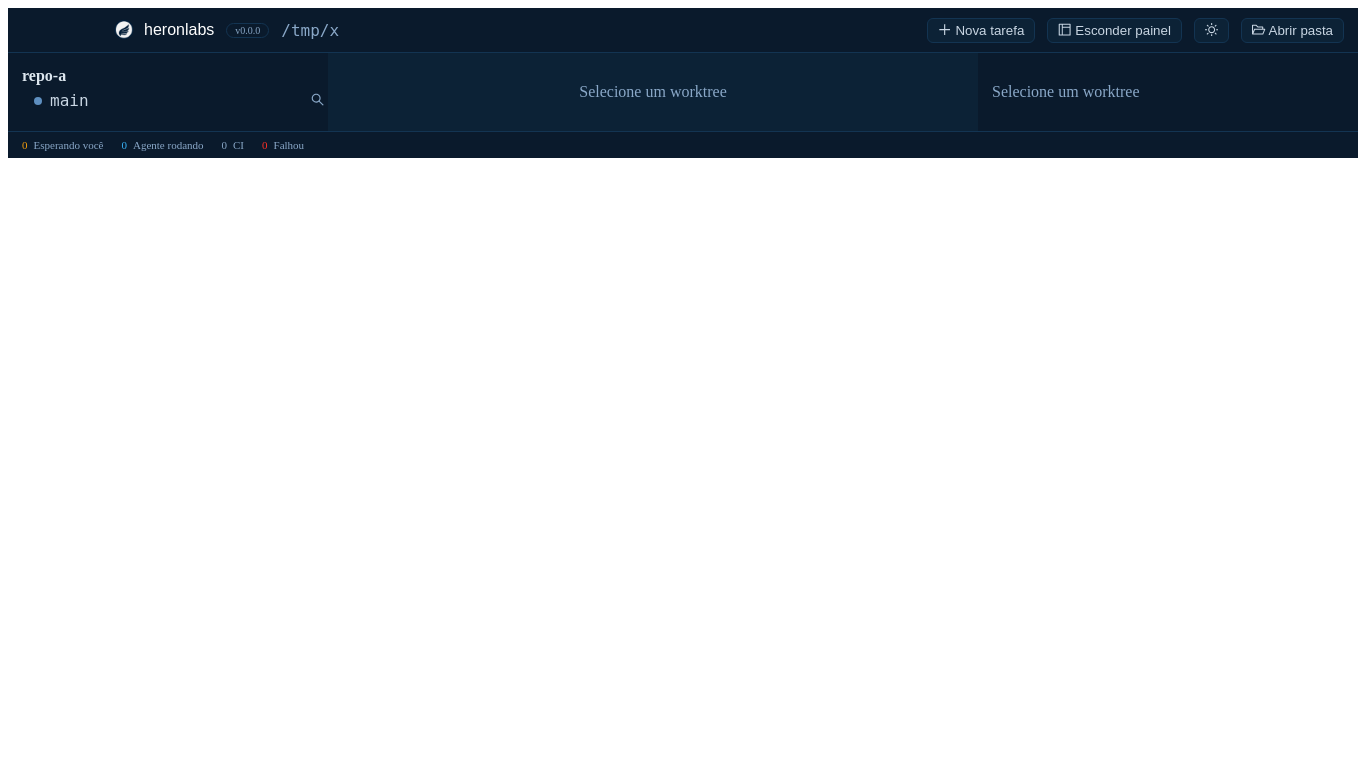
Test: AppShell › Should keep the dialog open and show the error when creating fails
The width and height of the screenshot is (1366, 768).
Click the button "Nova tarefa" at x=981, y=30, box x1=927 y1=18 x2=1035 y2=42
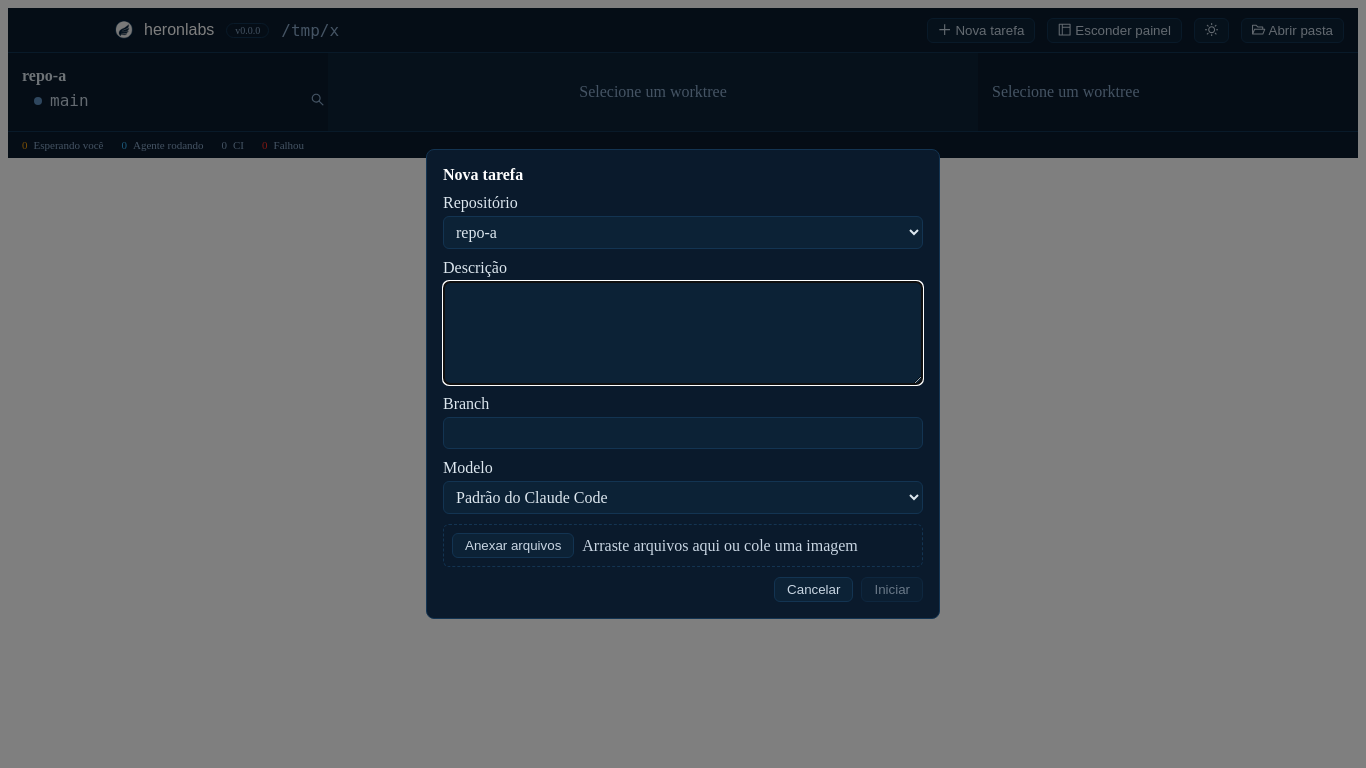
Type "x" into the text box labelled "Descrição" at x=683, y=333, box x1=443 y1=281 x2=923 y2=385
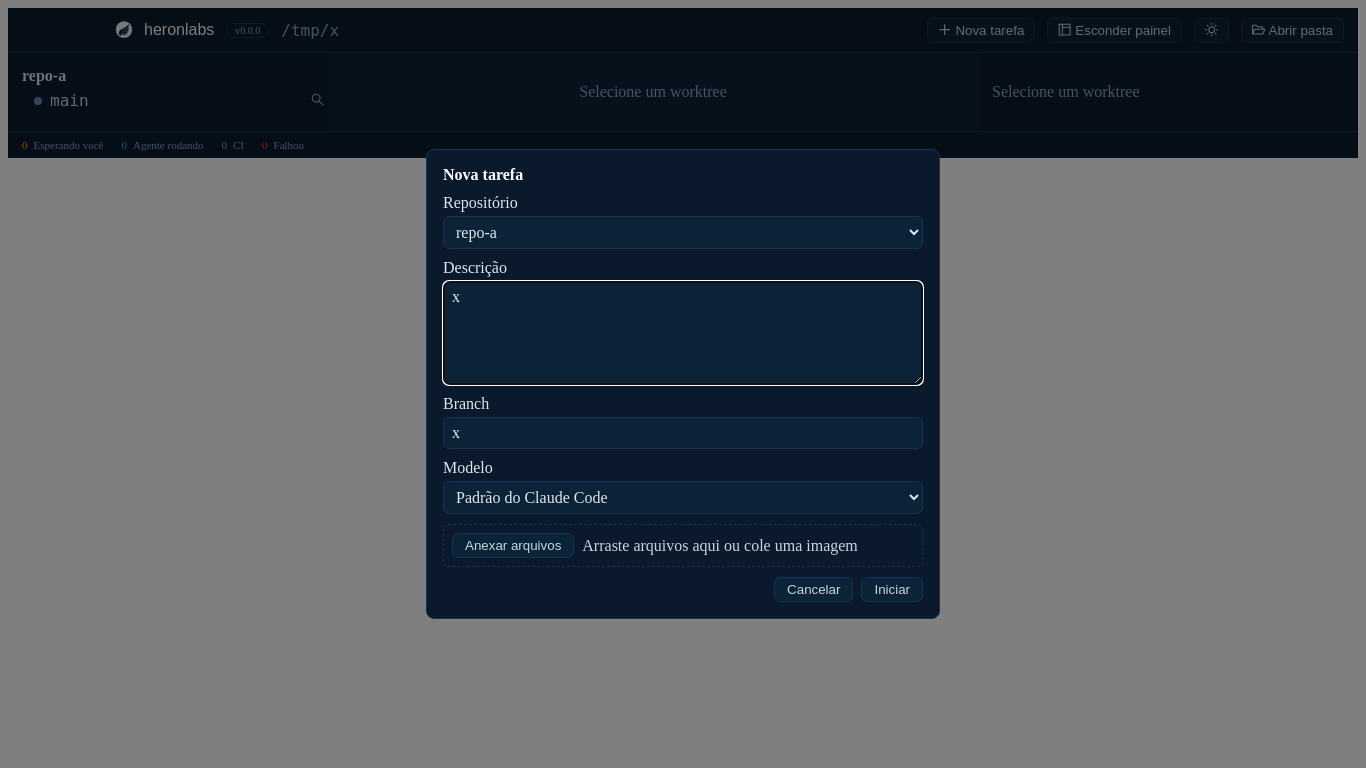
Click the button "Iniciar" at x=892, y=590, box x1=861 y1=577 x2=923 y2=602
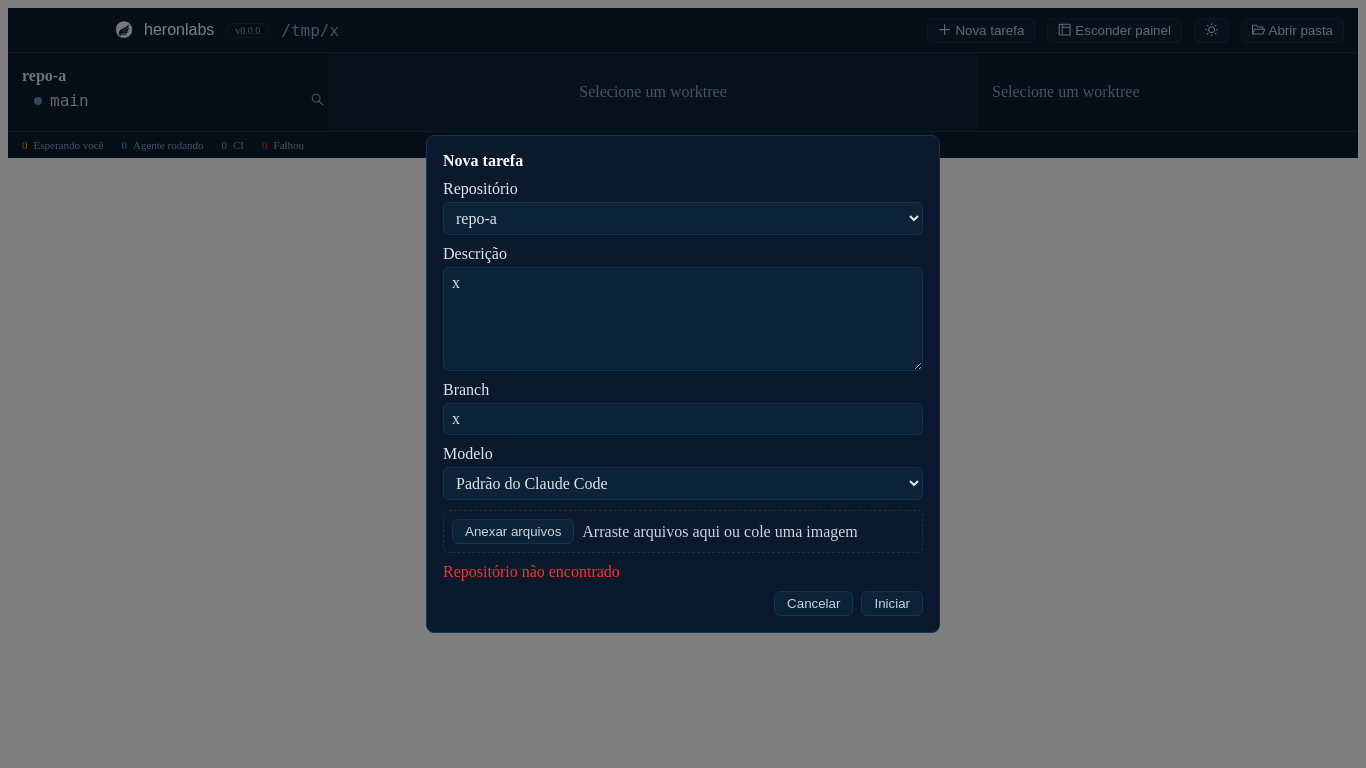
Expected: the message reads "Repositório não encontrado", x1=443 y1=563 x2=620 y2=580
